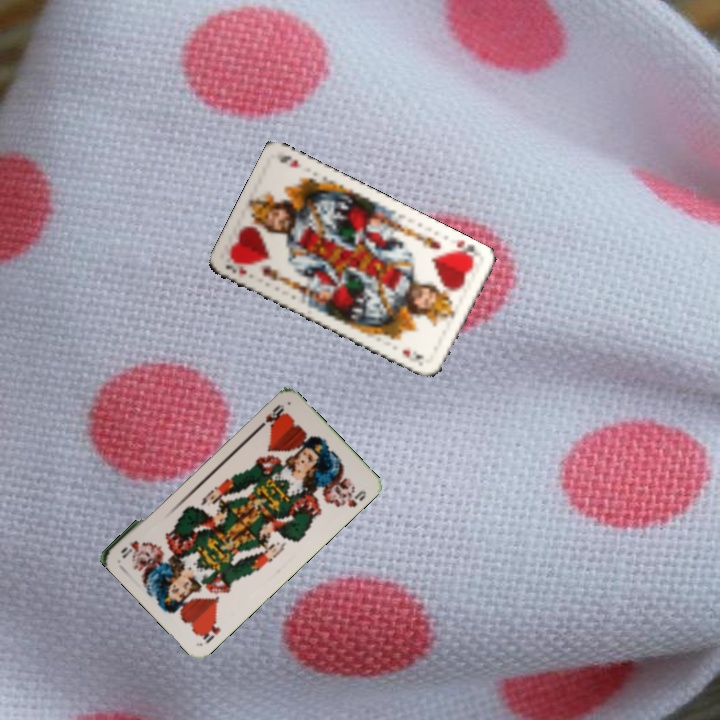HK: (446, 236, 479, 264), (221, 255, 249, 278)
HO: (254, 400, 287, 432), (195, 615, 223, 646)
